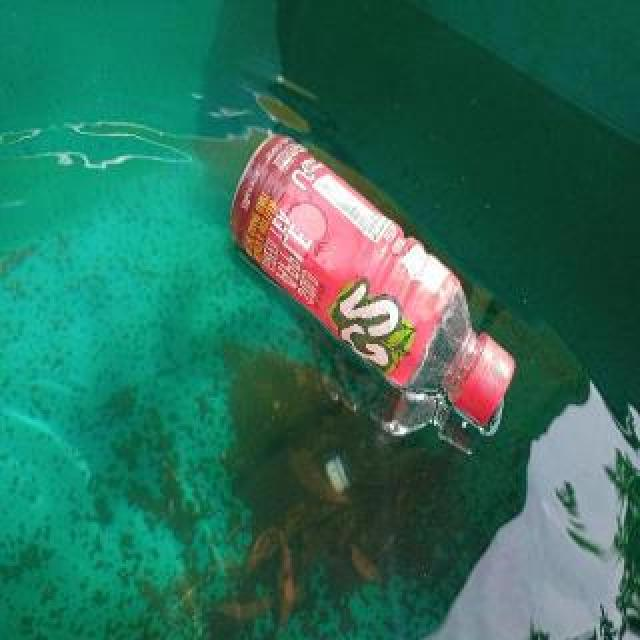Bottle: (224, 124, 532, 436)
